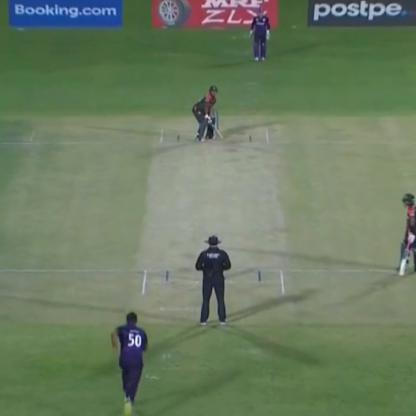bat: (384, 232, 414, 279), (202, 112, 229, 140)
pitch: (131, 119, 299, 306)
